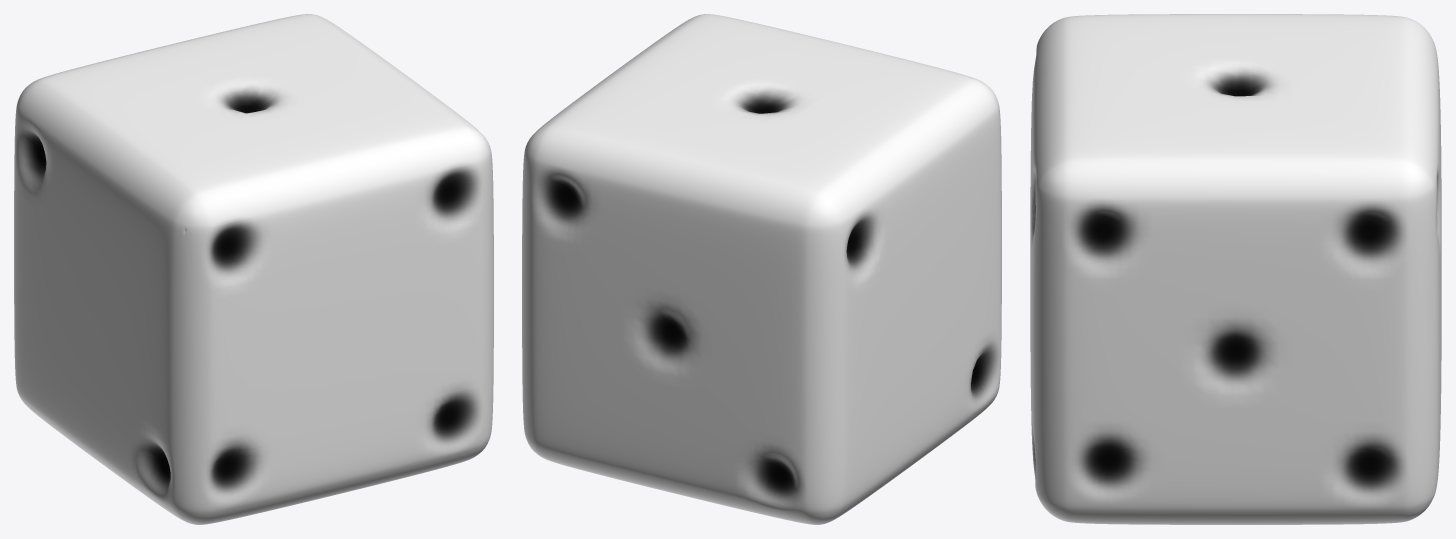
The model's file is dice.glb.
The picture shows the model from 3 angles, left to right: view 1: azimuth 30°, elevation 25°; view 2: azimuth 150°, elevation 25°; view 3: azimuth 270°, elevation 25°; orthographic projection. The views are drawn at different scales.
Parts seen in each view (by area): view 1: Cube; view 2: Cube; view 3: Cube.
Part boxes in pixels (box(x1,y1,x2,y2)): Cube: box(14, 14, 493, 524); Cube: box(522, 14, 1001, 524); Cube: box(1030, 14, 1441, 524).
Size of the model in its own units: 0.9982 by 0.9983 by 0.9982.
Materials: 1 (1 with a texture image).
